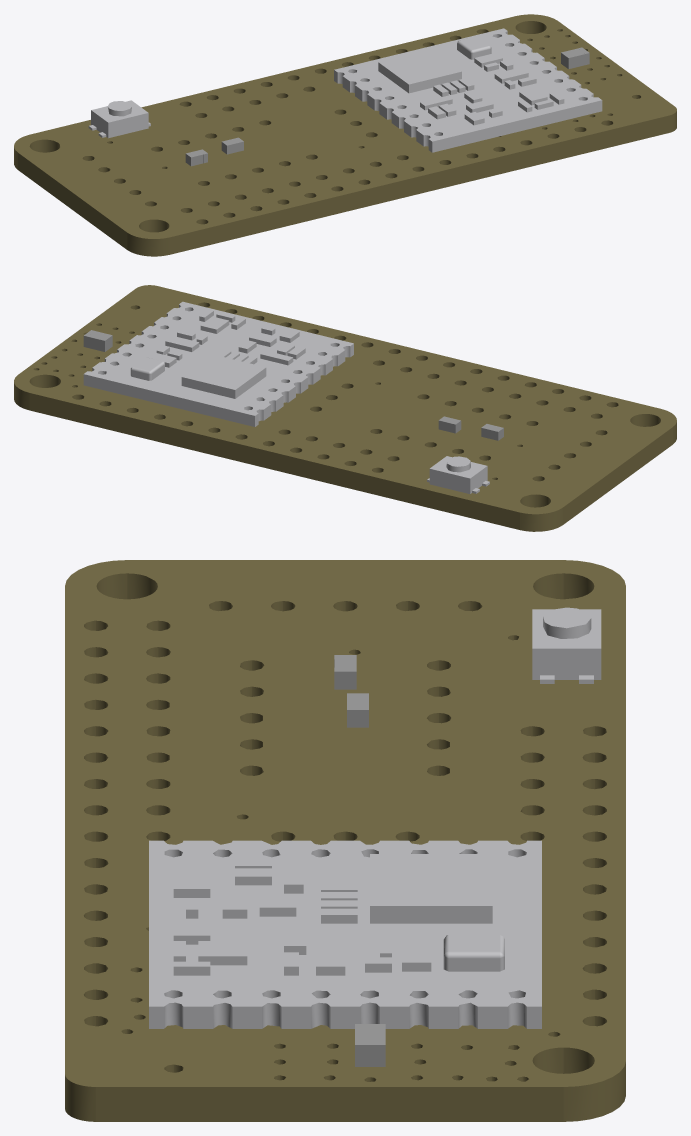
The model's file is ada-3229.glb.
3 views of the same model, one above another, from view 1: azimuth 30°, elevation 25°; view 2: azimuth 150°, elevation 25°; view 3: azimuth 270°, elevation 25° (orthographic). The views are drawn at different scales.
Visible parts, largest first — view 1: 0.16666666666666666_0.16666666666666666_0.08333333333333333_, 0.5833333333333334_0.5833333333333334_0.5833333333333334_0.8, 0.3333333333333333_0.3333333333333333_0.3333333333333333_0; view 2: 0.16666666666666666_0.16666666666666666_0.08333333333333333_, 0.5833333333333334_0.5833333333333334_0.5833333333333334_0.8, 0.3333333333333333_0.3333333333333333_0.3333333333333333_0; view 3: 0.16666666666666666_0.16666666666666666_0.08333333333333333_, 0.5833333333333334_0.5833333333333334_0.5833333333333334_0.8, 0.3333333333333333_0.3333333333333333_0.3333333333333333_0.
Boxes of the visible parts, <box> form: 0.16666666666666666_0.16666666666666666_0.08333333333333333_: <box>14,14,676,256</box>; 0.5833333333333334_0.5833333333333334_0.5833333333333334_0.8: <box>88,28,602,152</box>; 0.3333333333333333_0.3333333333333333_0.3333333333333333_0: <box>185,47,589,166</box>; 0.16666666666666666_0.16666666666666666_0.08333333333333333_: <box>14,285,676,531</box>; 0.5833333333333334_0.5833333333333334_0.5833333333333334_0.8: <box>83,301,489,493</box>; 0.3333333333333333_0.3333333333333333_0.3333333333333333_0: <box>83,330,503,440</box>; 0.16666666666666666_0.16666666666666666_0.08333333333333333_: <box>65,560,625,1121</box>; 0.5833333333333334_0.5833333333333334_0.5833333333333334_0.8: <box>149,607,601,1028</box>; 0.3333333333333333_0.3333333333333333_0.3333333333333333_0: <box>334,655,385,1066</box>.
Bounding box in the file's own units: 5.08 × 0.3469 × 2.29.
